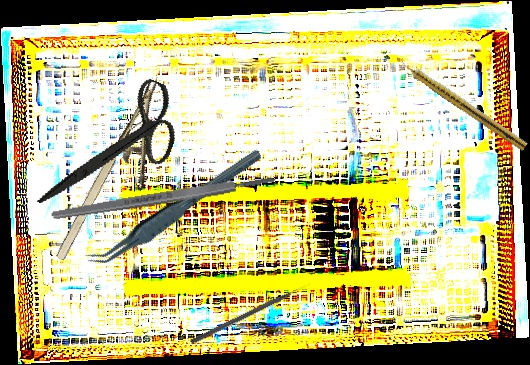Handpiece: (396, 55, 530, 152)
Hook Surgical: (189, 281, 312, 346)
Iris Scissors: (36, 56, 193, 241)
Needle Holder: (50, 75, 195, 277)
Scalpel Handle: (50, 173, 277, 222)
Tissue Forceps: (77, 148, 273, 271)
